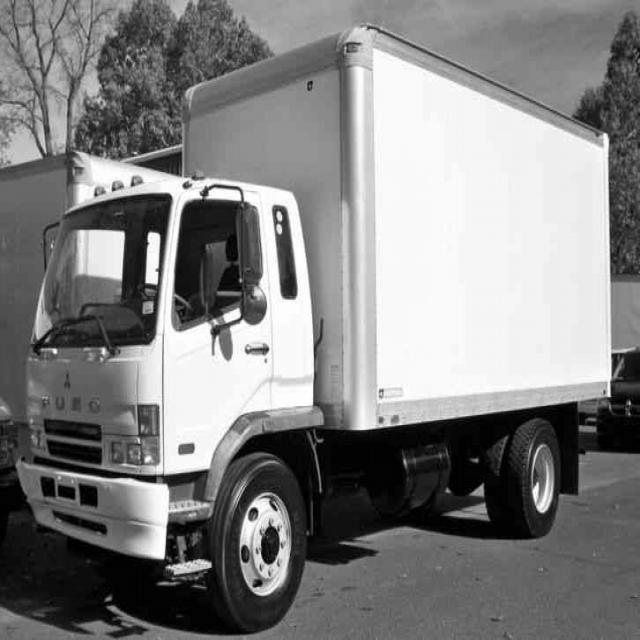truck: (1, 147, 351, 609)
